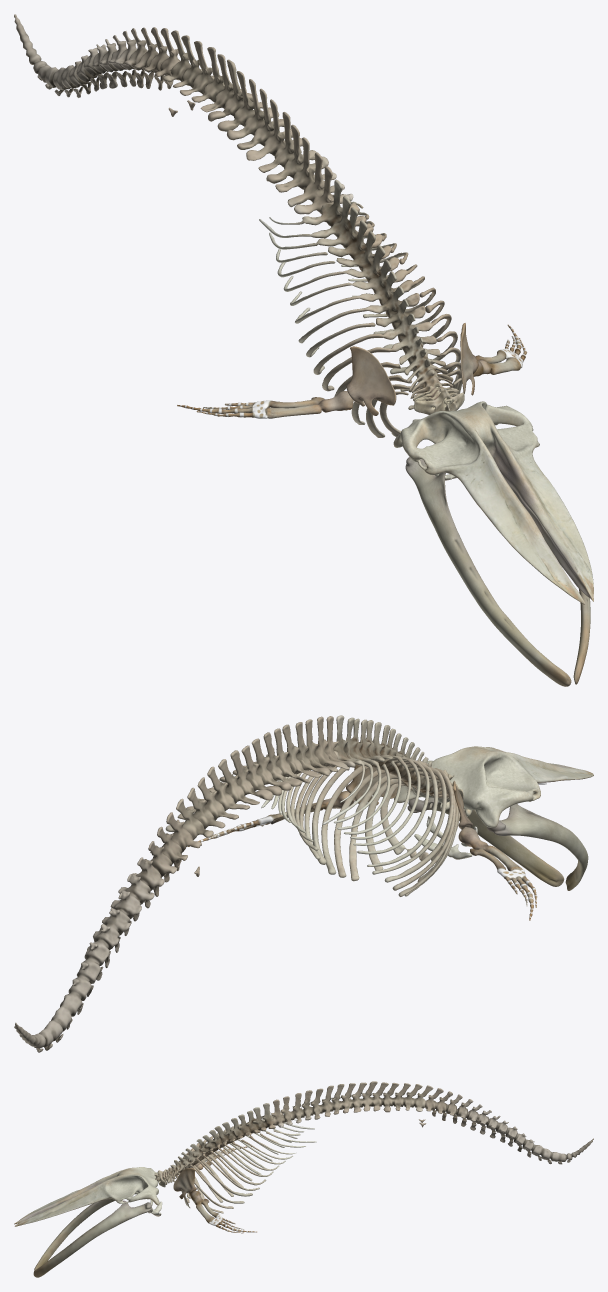
The model's file is blue_whale_skeleton.glb.
The picture shows the model from 3 angles, top to bottom: view 1: azimuth 30°, elevation 25°; view 2: azimuth 150°, elevation 25°; view 3: azimuth 270°, elevation 25°; orthographic projection. The views are drawn at different scales.
Parts seen in each view (by area): view 1: Skull, Ribcage, Spine, Tail, Jaw, Right_flipper, Left_flipper, Cervical; view 2: Ribcage, Spine, Tail, Skull, Jaw, Right_flipper, Left_flipper, Hyoid; view 3: Ribcage, Spine, Skull, Tail, Jaw, Left_flipper.
Boxes of the visible parts, left/top/right/bottom form: Skull: left=393, top=401, right=593, bottom=604; Ribcage: left=259, top=179, right=462, bottom=437; Spine: left=163, top=30, right=353, bottom=214; Tail: left=14, top=14, right=180, bottom=97; Jaw: left=405, top=457, right=590, bottom=686; Right_flipper: left=177, top=346, right=396, bottom=418; Left_flipper: left=460, top=323, right=527, bottom=395; Cervical: left=413, top=382, right=464, bottom=414; Ribcage: left=261, top=715, right=460, bottom=896; Spine: left=165, top=716, right=355, bottom=876; Tail: left=14, top=812, right=201, bottom=1052; Skull: left=394, top=746, right=593, bottom=827; Jaw: left=407, top=798, right=588, bottom=890; Right_flipper: left=453, top=780, right=537, bottom=920; Left_flipper: left=188, top=765, right=397, bottom=846; Hyoid: left=414, top=816, right=477, bottom=859; Ribcage: left=168, top=1103, right=316, bottom=1213; Spine: left=271, top=1081, right=433, bottom=1127; Skull: left=14, top=1167, right=159, bottom=1226; Tail: left=424, top=1088, right=593, bottom=1164; Jaw: left=33, top=1199, right=151, bottom=1277; Left_flipper: left=173, top=1168, right=256, bottom=1233.
Bounding box in the file's own units: 5.4 × 5.86 × 15.93.
10 materials, 9 textured.
